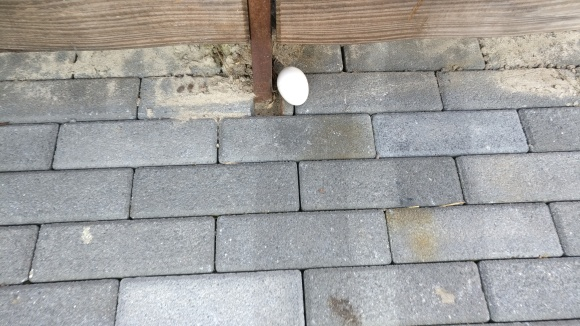egg: (276, 64, 311, 107)
